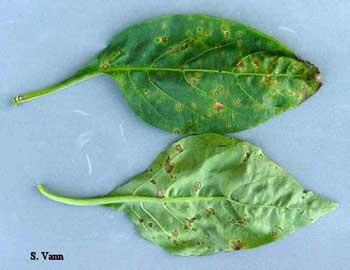Bell_pepper leaf: (90, 131, 343, 258), (81, 15, 339, 137)
